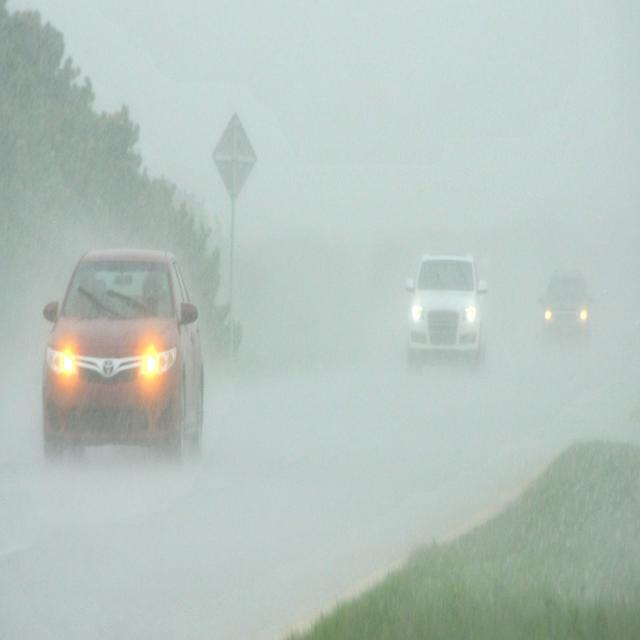car: (42, 250, 206, 452), (404, 254, 486, 358), (540, 270, 591, 345)
